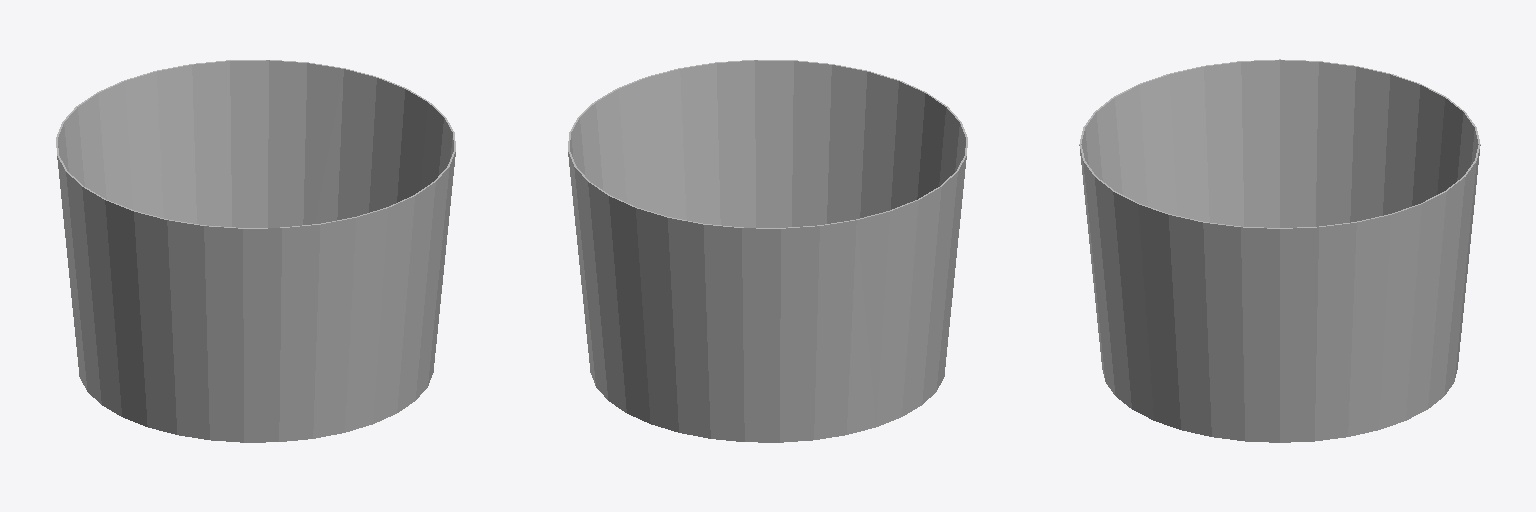
Rendered from cup2.obj.
3 renders of one model, left to right at view 1: azimuth 30°, elevation 25°; view 2: azimuth 150°, elevation 25°; view 3: azimuth 270°, elevation 25°, orthographic.
Visible parts, largest first — view 1: Circle.002; view 2: Circle.002; view 3: Circle.002.
Part boxes in pixels (left/top/right/bottom): Circle.002: left=56, top=60, right=455, bottom=442; Circle.002: left=568, top=60, right=967, bottom=442; Circle.002: left=1079, top=59, right=1480, bottom=442.
Bounding box in the file's own units: 0.045 × 0.0276 × 0.045.